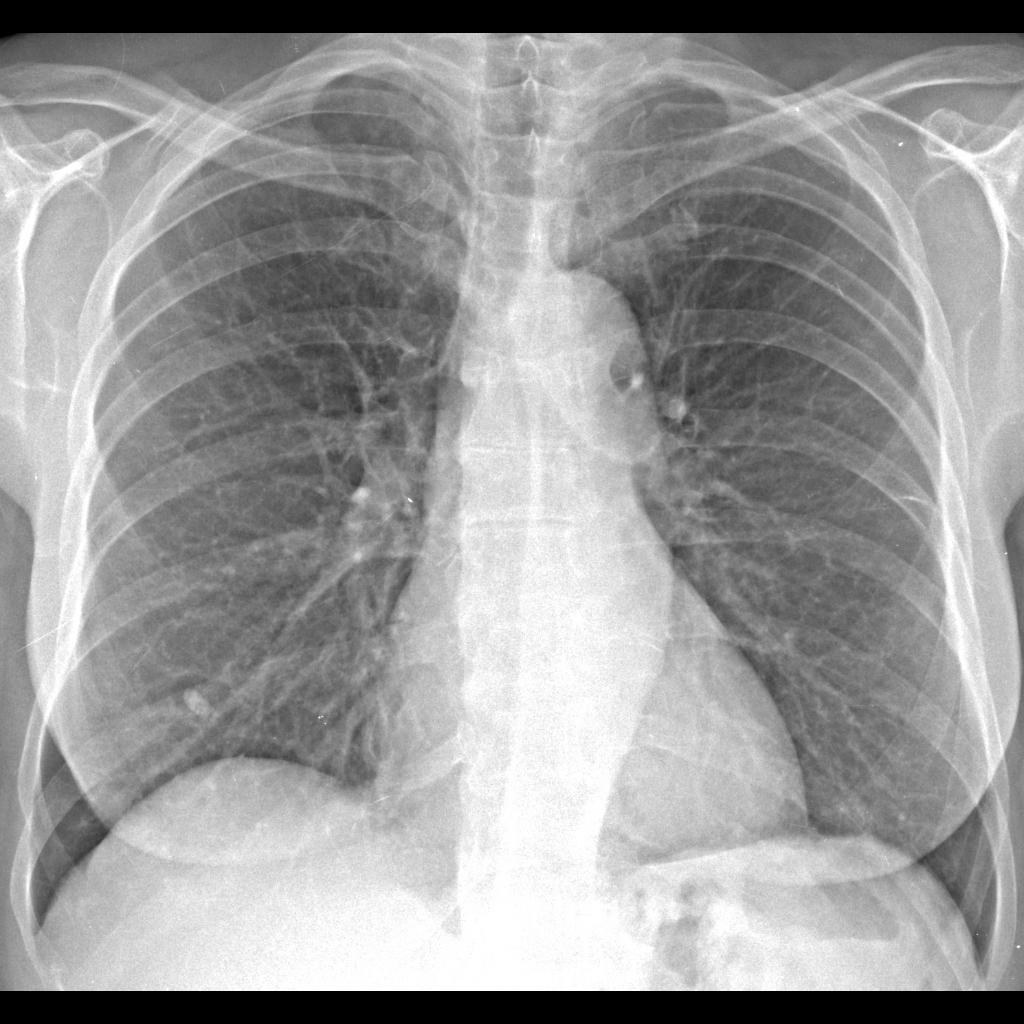Nodule: (175, 683, 222, 727)
